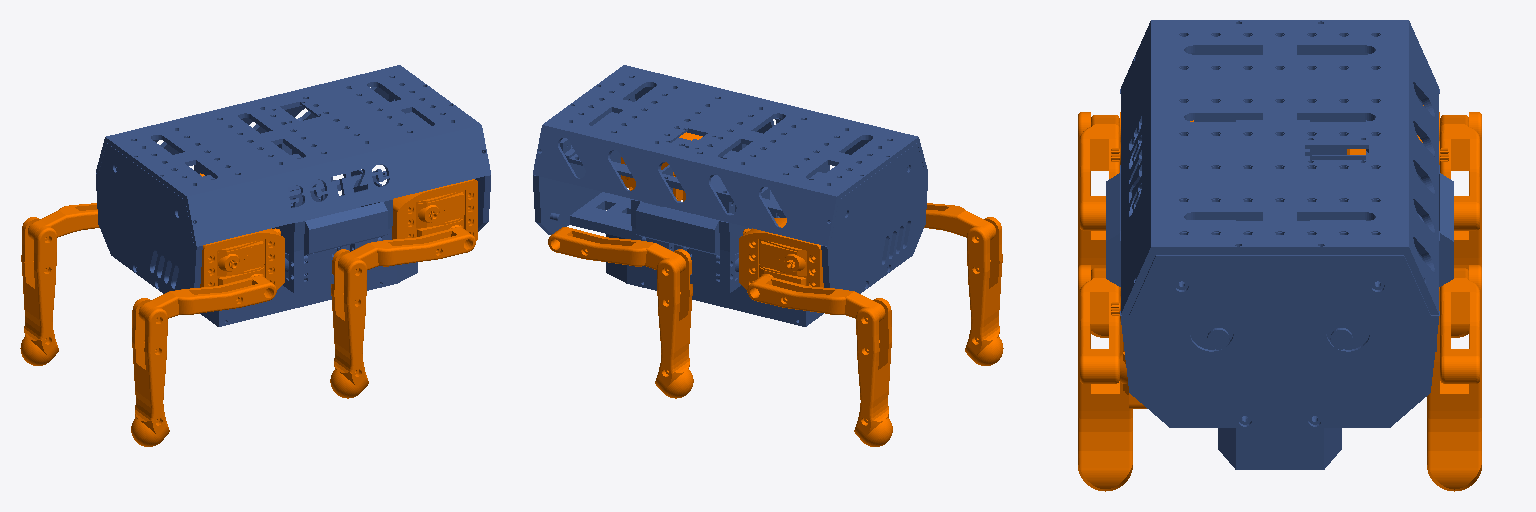
robot.urdf — botzo:
<?xml version="1.0" ?>
<robot name="botzo">




  <!-- Body Material -->
  <material name="body_material">
    <color rgba="0.3 0.4 0.6 1.0"/>
    <!-- steel blue -->
  </material>
  <material name="limbs_material">
    <color rgba="1.0 0.5 0.0 1.0"/>
    <!-- orange -->
  </material>




  <transmission name="BL_shoulder_joint_tran"> 
    <type>transmission_interface/SimpleTransmission</type>
    <joint name="BL_shoulder_joint">
      <hardwareInterface>hardware_interface/PositionJointInterface</hardwareInterface>
    </joint>
    <actuator name="BL_shoulder_joint_actr">
      <hardwareInterface>hardware_interface/PositionJointInterface</hardwareInterface>
      <mechanicalReduction>1</mechanicalReduction>
    </actuator>
  </transmission>
  <transmission name="BR_shoulder_joint_tran">
    <type>transmission_interface/SimpleTransmission</type>
    <joint name="BR_shoulder_joint">
      <hardwareInterface>hardware_interface/PositionJointInterface</hardwareInterface>
    </joint>
    <actuator name="BR_shoulder_joint_actr">
      <hardwareInterface>hardware_interface/PositionJointInterface</hardwareInterface>
      <mechanicalReduction>1</mechanicalReduction>
    </actuator>
  </transmission>
  <transmission name="FL_shoulder_joint_tran">
    <type>transmission_interface/SimpleTransmission</type>
    <joint name="FL_shoulder_joint">
      <hardwareInterface>hardware_interface/PositionJointInterface</hardwareInterface>
    </joint>
    <actuator name="FL_shoulder_joint_actr">
      <hardwareInterface>hardware_interface/PositionJointInterface</hardwareInterface>
      <mechanicalReduction>1</mechanicalReduction>
    </actuator>
  </transmission>
  <transmission name="FR_shoulder_joint_tran">
    <type>transmission_interface/SimpleTransmission</type>
    <joint name="FR_shoulder_joint">
      <hardwareInterface>hardware_interface/PositionJointInterface</hardwareInterface>
    </joint>
    <actuator name="FR_shoulder_joint_actr">
      <hardwareInterface>hardware_interface/PositionJointInterface</hardwareInterface>
      <mechanicalReduction>1</mechanicalReduction>
    </actuator>
  </transmission>
  <transmission name="FR_femur_joint_tran">
    <type>transmission_interface/SimpleTransmission</type>
    <joint name="FR_femur_joint">
      <hardwareInterface>hardware_interface/PositionJointInterface</hardwareInterface>
    </joint>
    <actuator name="FR_femur_joint_actr">
      <hardwareInterface>hardware_interface/PositionJointInterface</hardwareInterface>
      <mechanicalReduction>1</mechanicalReduction>
    </actuator>
  </transmission>
  <transmission name="FR_tibia_joint_tran">
    <type>transmission_interface/SimpleTransmission</type>
    <joint name="FR_tibia_joint">
      <hardwareInterface>hardware_interface/PositionJointInterface</hardwareInterface>
    </joint>
    <actuator name="FR_tibia_joint_actr">
      <hardwareInterface>hardware_interface/PositionJointInterface</hardwareInterface>
      <mechanicalReduction>1</mechanicalReduction>
    </actuator>
  </transmission>
  <transmission name="FL_femur_joint_tran">
    <type>transmission_interface/SimpleTransmission</type>
    <joint name="FL_femur_joint">
      <hardwareInterface>hardware_interface/PositionJointInterface</hardwareInterface>
    </joint>
    <actuator name="FL_femur_joint_actr">
      <hardwareInterface>hardware_interface/PositionJointInterface</hardwareInterface>
      <mechanicalReduction>1</mechanicalReduction>
    </actuator>
  </transmission>
  <transmission name="FL_tibia_joint_tran">
    <type>transmission_interface/SimpleTransmission</type>
    <joint name="FL_tibia_joint">
      <hardwareInterface>hardware_interface/PositionJointInterface</hardwareInterface>
    </joint>
    <actuator name="FL_tibia_joint_actr">
      <hardwareInterface>hardware_interface/PositionJointInterface</hardwareInterface>
      <mechanicalReduction>1</mechanicalReduction>
    </actuator>
  </transmission>
  <transmission name="BR_femur_joint_tran">
    <type>transmission_interface/SimpleTransmission</type>
    <joint name="BR_femur_joint">
      <hardwareInterface>hardware_interface/PositionJointInterface</hardwareInterface>
    </joint>
    <actuator name="BR_femur_joint_actr">
      <hardwareInterface>hardware_interface/PositionJointInterface</hardwareInterface>
      <mechanicalReduction>1</mechanicalReduction>
    </actuator>
  </transmission>
  <transmission name="BR_tibia_joint_tran">
    <type>transmission_interface/SimpleTransmission</type>
    <joint name="BR_tibia_joint">
      <hardwareInterface>hardware_interface/PositionJointInterface</hardwareInterface>
    </joint>
    <actuator name="BR_tibia_joint_actr">
      <hardwareInterface>hardware_interface/PositionJointInterface</hardwareInterface>
      <mechanicalReduction>1</mechanicalReduction>
    </actuator>
  </transmission>
  <transmission name="BL_femur_joint_tran">
    <type>transmission_interface/SimpleTransmission</type>
    <joint name="BL_femur_joint">
      <hardwareInterface>hardware_interface/PositionJointInterface</hardwareInterface>
    </joint>
    <actuator name="BL_femur_joint_actr">
      <hardwareInterface>hardware_interface/PositionJointInterface</hardwareInterface>
      <mechanicalReduction>1</mechanicalReduction>
    </actuator>
  </transmission>
  <transmission name="BL_tibia_joint_tran">
    <type>transmission_interface/SimpleTransmission</type>
    <joint name="BL_tibia_joint">
      <hardwareInterface>hardware_interface/PositionJointInterface</hardwareInterface>
    </joint>
    <actuator name="BL_tibia_joint_actr">
      <hardwareInterface>hardware_interface/PositionJointInterface</hardwareInterface>
      <mechanicalReduction>1</mechanicalReduction>
    </actuator>
  </transmission>




  <gazebo>
    <plugin filename="libgazebo_ros_control.so" name="control"/>
  </gazebo>
  <gazebo reference="base">
    <material>Gazebo/Silver</material>
    <mu1>0.2</mu1>
    <mu2>0.2</mu2>
    <selfCollide>true</selfCollide>
    <gravity>true</gravity>
  </gazebo>
  <gazebo reference="BL_shoulder">
    <material>Gazebo/Silver</material>
    <mu1>0.2</mu1>
    <mu2>0.2</mu2>
    <selfCollide>true</selfCollide>
  </gazebo>
  <gazebo reference="BR_shoulder">
    <material>Gazebo/Silver</material>
    <mu1>0.2</mu1>
    <mu2>0.2</mu2>
    <selfCollide>true</selfCollide>
  </gazebo>
  <gazebo reference="FL_shoulder">
    <material>Gazebo/Silver</material>
    <mu1>0.2</mu1>
    <mu2>0.2</mu2>
    <selfCollide>true</selfCollide>
  </gazebo>
  <gazebo reference="FR_shoulder">
    <material>Gazebo/Silver</material>
    <mu1>0.2</mu1>
    <mu2>0.2</mu2>
    <selfCollide>true</selfCollide>
  </gazebo>
  <gazebo reference="FR_femur">
    <material>Gazebo/Silver</material>
    <mu1>0.2</mu1>
    <mu2>0.2</mu2>
    <selfCollide>true</selfCollide>
  </gazebo>
  <gazebo reference="FR_tibia">
    <material>Gazebo/Silver</material>
    <mu1>0.2</mu1>
    <mu2>0.2</mu2>
    <selfCollide>true</selfCollide>
  </gazebo>
  <gazebo reference="FL_femur">
    <material>Gazebo/Silver</material>
    <mu1>0.2</mu1>
    <mu2>0.2</mu2>
    <selfCollide>true</selfCollide>
  </gazebo>
  <gazebo reference="FL_tibia">
    <material>Gazebo/Silver</material>
    <mu1>0.2</mu1>
    <mu2>0.2</mu2>
    <selfCollide>true</selfCollide>
  </gazebo>
  <gazebo reference="BR_femur">
    <material>Gazebo/Silver</material>
    <mu1>0.2</mu1>
    <mu2>0.2</mu2>
    <selfCollide>true</selfCollide>
  </gazebo>
  <gazebo reference="BR_tibia">
    <material>Gazebo/Silver</material>
    <mu1>0.2</mu1>
    <mu2>0.2</mu2>
    <selfCollide>true</selfCollide>
  </gazebo>
  <gazebo reference="BL_femur">
    <material>Gazebo/Silver</material>
    <mu1>0.2</mu1>
    <mu2>0.2</mu2>
    <selfCollide>true</selfCollide>
  </gazebo>
  <gazebo reference="BL_tibia">
    <material>Gazebo/Silver</material>
    <mu1>0.2</mu1>
    <mu2>0.2</mu2>
    <selfCollide>true</selfCollide>
  </gazebo>


  

  <link name="base">
    <inertial>
      <origin rpy="0 0 0" xyz="0.0004582873296189677 -0.0002865140714721542 0.064627583528461"/>
      <mass value="0.7893620452930467"/>
      <inertia ixx="0.002233" ixy="1.3e-05" ixz="1.6e-05" iyy="0.004326" iyz="1.4e-05" izz="0.004626"/>
    </inertial>
    <visual>
      <origin rpy="0 0 0" xyz="0 0 0"/>
      <geometry>
        <mesh filename="package://botzo_description/meshes/base.stl" scale="0.001 0.001 0.001"/>
      </geometry>
      <material name="body_material"/>
    </visual>
    <collision>
      <origin rpy="0 0 0" xyz="0 0 0"/>
      <geometry>
        <mesh filename="package://botzo_description/meshes/base.stl" scale="0.001 0.001 0.001"/>
      </geometry>
    </collision>
  </link>
  <link name="BL_shoulder">
    <inertial>
      <origin rpy="0 0 0" xyz="-0.03752793520024612 0.002007582464765928 0.010711593323082934"/>
      <mass value="0.10894741172095637"/>
      <inertia ixx="3.1e-05" ixy="0.0" ixz="1e-06" iyy="5.3e-05" iyz="0.0" izz="4.6e-05"/>
    </inertial>
    <visual>
      <origin rpy="0 0 0" xyz="0.04255 0.0531 -0.0522"/>
      <geometry>
        <mesh filename="package://botzo_description/meshes/BL_shoulder.stl" scale="0.001 0.001 0.001"/>
      </geometry>
      <material name="limbs_material"/>
    </visual>
    <collision>
      <origin rpy="0 0 0" xyz="0.04255 0.0531 -0.0522"/>
      <geometry>
        <mesh filename="package://botzo_description/meshes/BL_shoulder.stl" scale="0.001 0.001 0.001"/>
      </geometry>
    </collision>
  </link>
  <link name="BR_shoulder">
    <inertial>
      <origin rpy="0 0 0" xyz="-0.03752795235962702 -0.0020133047527714915 0.010710440129393366"/>
      <mass value="0.10894732734955483"/>
      <inertia ixx="3.1e-05" ixy="-0.0" ixz="1e-06" iyy="5.3e-05" iyz="-0.0" izz="4.6e-05"/>
    </inertial>
    <visual>
      <origin rpy="0 0 0" xyz="0.04255 -0.0531 -0.0522"/>
      <geometry>
        <mesh filename="package://botzo_description/meshes/BR_shoulder.stl" scale="0.001 0.001 0.001"/>
      </geometry>
      <material name="limbs_material"/>
    </visual>
    <collision>
      <origin rpy="0 0 0" xyz="0.04255 -0.0531 -0.0522"/>
      <geometry>
        <mesh filename="package://botzo_description/meshes/BR_shoulder.stl" scale="0.001 0.001 0.001"/>
      </geometry>
    </collision>
  </link>
  <link name="FL_shoulder">
    <inertial>
      <origin rpy="0 0 0" xyz="0.03733001797786554 0.0020131800950347473 0.010709605239346186"/>
      <mass value="0.10895629411716044"/>
      <inertia ixx="3.1e-05" ixy="-0.0" ixz="-1e-06" iyy="5.3e-05" iyz="0.0" izz="4.6e-05"/>
    </inertial>
    <visual>
      <origin rpy="0 0 0" xyz="-0.04255 0.0531 -0.0522"/>
      <geometry>
        <mesh filename="package://botzo_description/meshes/FL_shoulder.stl" scale="0.001 0.001 0.001"/>
      </geometry>
      <material name="limbs_material"/>
    </visual>
    <collision>
      <origin rpy="0 0 0" xyz="-0.04255 0.0531 -0.0522"/>
      <geometry>
        <mesh filename="package://botzo_description/meshes/FL_shoulder.stl" scale="0.001 0.001 0.001"/>
      </geometry>
    </collision>
  </link>
  <link name="FR_shoulder">
    <inertial>
      <origin rpy="0 0 0" xyz="0.03733001634412595 -0.00201054852272476 0.010710033996158143"/>
      <mass value="0.1089563019083912"/>
      <inertia ixx="3.1e-05" ixy="0.0" ixz="-1e-06" iyy="5.3e-05" iyz="-0.0" izz="4.6e-05"/>
    </inertial>
    <visual>
      <origin rpy="0 0 0" xyz="-0.04255 -0.0531 -0.0522"/>
      <geometry>
        <mesh filename="package://botzo_description/meshes/FR_shoulder.stl" scale="0.001 0.001 0.001"/>
      </geometry>
      <material name="limbs_material"/>
    </visual>
    <collision>
      <origin rpy="0 0 0" xyz="-0.04255 -0.0531 -0.0522"/>
      <geometry>
        <mesh filename="package://botzo_description/meshes/FR_shoulder.stl" scale="0.001 0.001 0.001"/>
      </geometry>
    </collision>
  </link>
  <link name="FR_femur">
    <inertial>
      <origin rpy="0 0 0" xyz="-0.04670121848460076 0.008185053377990609 0.0015481236726892916"/>
      <mass value="0.01663804705601809"/>
      <inertia ixx="1e-06" ixy="-0.0" ixz="1e-06" iyy="1.5e-05" iyz="0.0" izz="1.5e-05"/>
    </inertial>
    <visual>
      <origin rpy="0 0 0" xyz="-0.091123 -0.0719 -0.050621"/>
      <geometry>
        <mesh filename="package://botzo_description/meshes/FR_femur.stl" scale="0.001 0.001 0.001"/>
      </geometry>
      <material name="limbs_material"/>
    </visual>
    <collision>
      <origin rpy="0 0 0" xyz="-0.091123 -0.0719 -0.050621"/>
      <geometry>
        <mesh filename="package://botzo_description/meshes/FR_femur.stl" scale="0.001 0.001 0.001"/>
      </geometry>
    </collision>
  </link>
  <link name="FR_tibia">
    <inertial>
      <origin rpy="0 0 0" xyz="-0.00046565926526049445 -0.006596009939999856 -0.05485786854630329"/>
      <mass value="0.02685067474548009"/>
      <inertia ixx="2.6e-05" ixy="0.0" ixz="0.0" iyy="2.5e-05" iyz="0.0" izz="2e-06"/>
    </inertial>
    <visual>
      <origin rpy="0 0 0" xyz="-0.000544 -0.0849 -0.050621"/>
      <geometry>
        <mesh filename="package://botzo_description/meshes/FR_tibia.stl" scale="0.001 0.001 0.001"/>
      </geometry>
      <material name="limbs_material"/>
    </visual>
    <collision>
      <origin rpy="0 0 0" xyz="-0.000544 -0.0849 -0.050621"/>
      <geometry>
        <mesh filename="package://botzo_description/meshes/FR_tibia.stl" scale="0.001 0.001 0.001"/>
      </geometry>
    </collision>
  </link>
  <link name="FL_femur">
    <inertial>
      <origin rpy="0 0 0" xyz="-0.04670134392194205 -0.008187000609746323 0.0015498678648720662"/>
      <mass value="0.01663808878200678"/>
      <inertia ixx="1e-06" ixy="0.0" ixz="1e-06" iyy="1.5e-05" iyz="-0.0" izz="1.5e-05"/>
    </inertial>
    <visual>
      <origin rpy="0 0 0" xyz="-0.091123 0.0719 -0.050625"/>
      <geometry>
        <mesh filename="package://botzo_description/meshes/FL_femur.stl" scale="0.001 0.001 0.001"/>
      </geometry>
      <material name="limbs_material"/>
    </visual>
    <collision>
      <origin rpy="0 0 0" xyz="-0.091123 0.0719 -0.050625"/>
      <geometry>
        <mesh filename="package://botzo_description/meshes/FL_femur.stl" scale="0.001 0.001 0.001"/>
      </geometry>
    </collision>
  </link>
  <link name="FL_tibia">
    <inertial>
      <origin rpy="0 0 0" xyz="-0.00046566122225385874 0.006584330690178511 -0.054859540417466914"/>
      <mass value="0.026850714584678873"/>
      <inertia ixx="2.6e-05" ixy="-0.0" ixz="0.0" iyy="2.5e-05" iyz="-0.0" izz="2e-06"/>
    </inertial>
    <visual>
      <origin rpy="0 0 0" xyz="-0.000544 0.0849 -0.050628"/>
      <geometry>
        <mesh filename="package://botzo_description/meshes/FL_tibia.stl" scale="0.001 0.001 0.001"/>
      </geometry>
      <material name="limbs_material"/>
    </visual>
    <collision>
      <origin rpy="0 0 0" xyz="-0.000544 0.0849 -0.050628"/>
      <geometry>
        <mesh filename="package://botzo_description/meshes/FL_tibia.stl" scale="0.001 0.001 0.001"/>
      </geometry>
    </collision>
  </link>
  <link name="BR_femur">
    <inertial>
      <origin rpy="0 0 0" xyz="-0.04670048111666723 0.008184055329044218 0.001550627307348583"/>
      <mass value="0.0166380470560182"/>
      <inertia ixx="1e-06" ixy="-0.0" ixz="1e-06" iyy="1.5e-05" iyz="0.0" izz="1.5e-05"/>
    </inertial>
    <visual>
      <origin rpy="0 0 0" xyz="0.071723 -0.071901 -0.050625"/>
      <geometry>
        <mesh filename="package://botzo_description/meshes/BR_femur.stl" scale="0.001 0.001 0.001"/>
      </geometry>
      <material name="limbs_material"/>
    </visual>
    <collision>
      <origin rpy="0 0 0" xyz="0.071723 -0.071901 -0.050625"/>
      <geometry>
        <mesh filename="package://botzo_description/meshes/BR_femur.stl" scale="0.001 0.001 0.001"/>
      </geometry>
    </collision>
  </link>
  <link name="BR_tibia">
    <inertial>
      <origin rpy="0 0 0" xyz="-0.00046564986947178477 -0.006583418684337247 -0.05485980183517331"/>
      <mass value="0.0268506747454801"/>
      <inertia ixx="2.6e-05" ixy="0.0" ixz="0.0" iyy="2.5e-05" iyz="0.0" izz="2e-06"/>
    </inertial>
    <visual>
      <origin rpy="0 0 0" xyz="0.162302 -0.084901 -0.050629"/>
      <geometry>
        <mesh filename="package://botzo_description/meshes/BR_tibia.stl" scale="0.001 0.001 0.001"/>
      </geometry>
      <material name="limbs_material"/>
    </visual>
    <collision>
      <origin rpy="0 0 0" xyz="0.162302 -0.084901 -0.050629"/>
      <geometry>
        <mesh filename="package://botzo_description/meshes/BR_tibia.stl" scale="0.001 0.001 0.001"/>
      </geometry>
    </collision>
  </link>
  <link name="BL_femur">
    <inertial>
      <origin rpy="0 0 0" xyz="-0.04670076868330274 -0.008187978467027804 0.0015453975945706813"/>
      <mass value="0.016638088782005175"/>
      <inertia ixx="1e-06" ixy="0.0" ixz="1e-06" iyy="1.5e-05" iyz="-0.0" izz="1.5e-05"/>
    </inertial>
    <visual>
      <origin rpy="0 0 0" xyz="0.071723 0.071899 -0.050615"/>
      <geometry>
        <mesh filename="package://botzo_description/meshes/BL_femur.stl" scale="0.001 0.001 0.001"/>
      </geometry>
      <material name="limbs_material"/>
    </visual>
    <collision>
      <origin rpy="0 0 0" xyz="0.071723 0.071899 -0.050615"/>
      <geometry>
        <mesh filename="package://botzo_description/meshes/BL_femur.stl" scale="0.001 0.001 0.001"/>
      </geometry>
    </collision>
  </link>
  <link name="BL_tibia">
    <inertial>
      <origin rpy="0 0 0" xyz="-0.00046565182648261594 0.006613758250461149 -0.05485613170141751"/>
      <mass value="0.026850714584678158"/>
      <inertia ixx="2.6e-05" ixy="-0.0" ixz="0.0" iyy="2.5e-05" iyz="0.0" izz="2e-06"/>
    </inertial>
    <visual>
      <origin rpy="0 0 0" xyz="0.162302 0.084899 -0.050611"/>
      <geometry>
        <mesh filename="package://botzo_description/meshes/BL_tibia.stl" scale="0.001 0.001 0.001"/>
      </geometry>
      <material name="limbs_material"/>
    </visual>
    <collision>
      <origin rpy="0 0 0" xyz="0.162302 0.084899 -0.050611"/>
      <geometry>
        <mesh filename="package://botzo_description/meshes/BL_tibia.stl" scale="0.001 0.001 0.001"/>
      </geometry>
    </collision>
  </link>




  <joint name="BL_shoulder_joint" type="continuous">
    <origin rpy="0 0 0" xyz="-0.04255 -0.0531 0.0522"/>
    <parent link="base"/>
    <child link="BL_shoulder"/>
    <axis xyz="-1.0 -0.0 -0.0"/>
  </joint>
  <joint name="BR_shoulder_joint" type="continuous">
    <origin rpy="0 0 0" xyz="-0.04255 0.0531 0.0522"/>
    <parent link="base"/>
    <child link="BR_shoulder"/>
    <axis xyz="1.0 0.0 0.0"/>
  </joint>
  <joint name="FL_shoulder_joint" type="continuous">
    <origin rpy="0 0 0" xyz="0.04255 -0.0531 0.0522"/>
    <parent link="base"/>
    <child link="FL_shoulder"/>
    <axis xyz="-1.0 -0.0 0.0"/>
  </joint>
  <joint name="FR_shoulder_joint" type="continuous">
    <origin rpy="0 0 0" xyz="0.04255 0.0531 0.0522"/>
    <parent link="base"/>
    <child link="FR_shoulder"/>
    <axis xyz="1.0 -0.0 -0.0"/>
  </joint>
  <joint name="FR_femur_joint" type="continuous">
    <origin rpy="0 0 0" xyz="0.048573 0.0188 -0.001579"/>
    <parent link="FR_shoulder"/>
    <child link="FR_femur"/>
    <axis xyz="0.0 1.0 0.0"/>
  </joint>
  <joint name="FR_tibia_joint" type="continuous">
    <origin rpy="0 0 0" xyz="-0.090579 0.013 0.0"/>
    <parent link="FR_femur"/>
    <child link="FR_tibia"/>
    <axis xyz="0.0 1.0 0.0"/>
  </joint>
  <joint name="FL_femur_joint" type="continuous">
    <origin rpy="0 0 0" xyz="0.048573 -0.0188 -0.001575"/>
    <parent link="FL_shoulder"/>
    <child link="FL_femur"/>
    <axis xyz="-0.0 1.0 -0.000213"/>
  </joint>
  <joint name="FL_tibia_joint" type="continuous">
    <origin rpy="0 0 0" xyz="-0.090579 -0.013 3e-06"/>
    <parent link="FL_femur"/>
    <child link="FL_tibia"/>
    <axis xyz="-0.0 1.0 -0.000213"/>
  </joint>
  <joint name="BR_femur_joint" type="continuous">
    <origin rpy="0 0 0" xyz="-0.029173 0.018801 -0.001575"/>
    <parent link="BR_shoulder"/>
    <child link="BR_femur"/>
    <axis xyz="-0.0 1.0 0.000241"/>
  </joint>
  <joint name="BR_tibia_joint" type="continuous">
    <origin rpy="0 0 0" xyz="-0.090579 0.013 4e-06"/>
    <parent link="BR_femur"/>
    <child link="BR_tibia"/>
    <axis xyz="-0.0 1.0 0.000241"/>
  </joint>
  <joint name="BL_femur_joint" type="continuous">
    <origin rpy="0 0 0" xyz="-0.029173 -0.018799 -0.001585"/>
    <parent link="BL_shoulder"/>
    <child link="BL_femur"/>
    <axis xyz="-0.0 1.0 0.000326"/>
  </joint>
  <joint name="BL_tibia_joint" type="continuous">
    <origin rpy="0 0 0" xyz="-0.090579 -0.013 -4e-06"/>
    <parent link="BL_femur"/>
    <child link="BL_tibia"/>
    <axis xyz="-0.0 1.0 0.000326"/>
  </joint>
</robot>

--- Render facts (derived) ---
Views: 3 orthographic renders of the robot side by side, from view 1: azimuth 30°, elevation 25°; view 2: azimuth 150°, elevation 25°; view 3: azimuth 270°, elevation 25°.
Model botzo with 13 links and 12 joints (12 continuous), rooted at base, posed every joint at zero.
Visible links, largest first — view 1: base, BL_tibia, BR_tibia, FL_tibia, FL_shoulder, BL_shoulder, BL_femur, FR_femur, BR_femur; view 2: base, BR_tibia, BL_tibia, FR_tibia, BR_shoulder, FL_femur, BR_femur, BL_femur; view 3: base, FR_tibia, FL_tibia, FL_femur, FR_femur, BR_femur, BL_femur, BR_tibia, BL_tibia, FL_shoulder.
Boxes of the visible links, <box> form: base: <box>96,65,490,326</box>; BL_tibia: <box>131,298,169,446</box>; BR_tibia: <box>20,217,58,365</box>; FL_tibia: <box>330,249,368,398</box>; FL_shoulder: <box>392,179,477,240</box>; BL_shoulder: <box>200,228,284,289</box>; BL_femur: <box>138,275,276,321</box>; FR_femur: <box>338,227,475,272</box>; BR_femur: <box>28,203,99,239</box>; base: <box>533,65,927,326</box>; BR_tibia: <box>854,298,892,446</box>; BL_tibia: <box>965,217,1003,365</box>; FR_tibia: <box>655,249,693,398</box>; BR_shoulder: <box>739,218,823,289</box>; FL_femur: <box>548,227,685,272</box>; BR_femur: <box>747,275,885,321</box>; BL_femur: <box>924,203,995,239</box>; base: <box>1106,20,1453,469</box>; FR_tibia: <box>1427,265,1481,491</box>; FL_tibia: <box>1078,265,1132,491</box>; FL_femur: <box>1440,268,1479,383</box>; FR_femur: <box>1080,268,1119,383</box>; BR_femur: <box>1440,115,1479,230</box>; BL_femur: <box>1080,115,1119,230</box>; BR_tibia: <box>1439,112,1481,337</box>; BL_tibia: <box>1078,112,1120,337</box>; FL_shoulder: <box>1111,295,1146,408</box>.
Bounding box of the posed robot: 0.2965 × 0.1817 × 0.176 m (x, y, z).
12 mesh visuals loaded from 13 distinct referenced files (12 binary STL); not drawn: 1 (reference not matched to a file when rendering).
